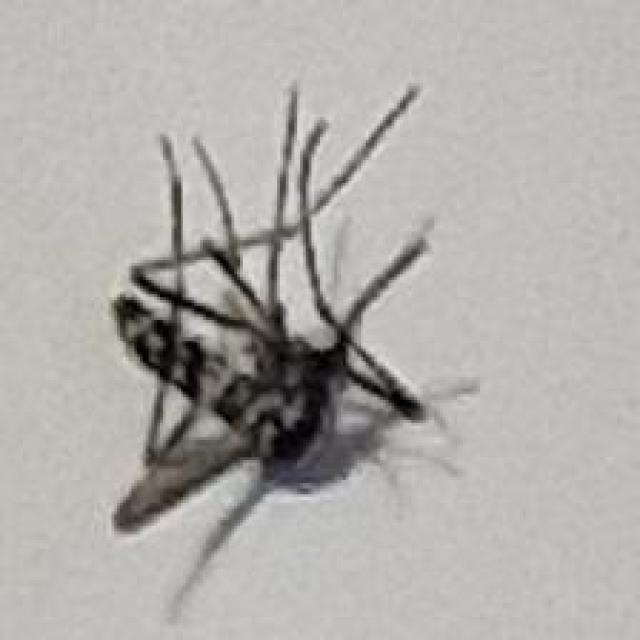Aedes albopictus: (107, 77, 473, 626)
